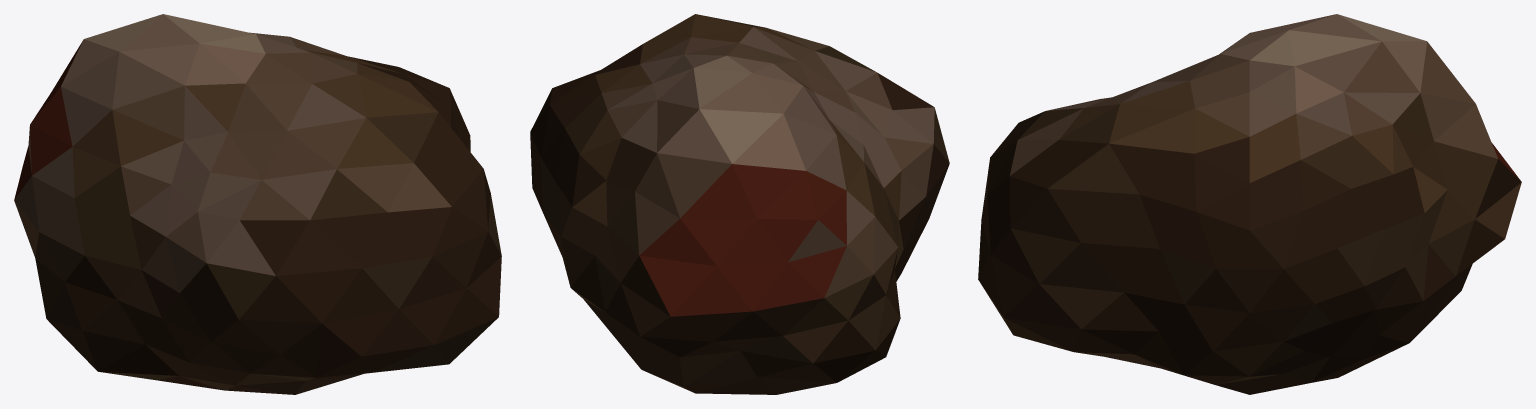
The model's file is flying_stone_a.glb.
3 views of the same model, side by side, from view 1: azimuth 30°, elevation 25°; view 2: azimuth 150°, elevation 25°; view 3: azimuth 270°, elevation 25° (orthographic). The views are drawn at different scales.
Parts seen in each view (by area): view 1: stone; view 2: stone; view 3: stone.
Boxes of the visible parts, <box> form: stone: <box>14,14,501,394</box>; stone: <box>530,14,949,394</box>; stone: <box>978,14,1521,394</box>.
Size of the model in its own units: 8.8 by 7.11 by 10.8.
